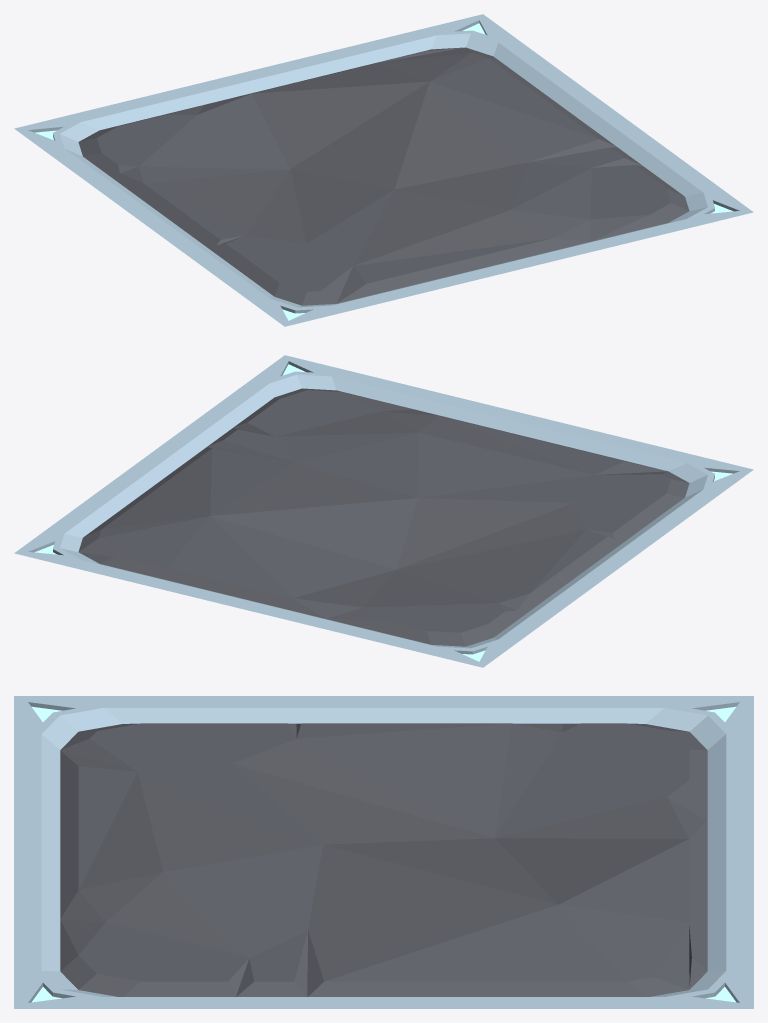
The model's file is Floor_Medium_Square.fbx.
3 renders of one model, top to bottom at view 1: azimuth 30°, elevation 25°; view 2: azimuth 150°, elevation 25°; view 3: azimuth 270°, elevation 25°, orthographic. The views are drawn at different scales.
Parts seen in each view (by area): view 1: Floor_Medium_Square; view 2: Floor_Medium_Square; view 3: Floor_Medium_Square.
Part boxes in pixels (<box>): Floor_Medium_Square: <box>14,14,753,326</box>; Floor_Medium_Square: <box>14,355,753,667</box>; Floor_Medium_Square: <box>14,696,753,1008</box>.
Bounding box in the file's own units: 8 × 0.5033 × 8.
